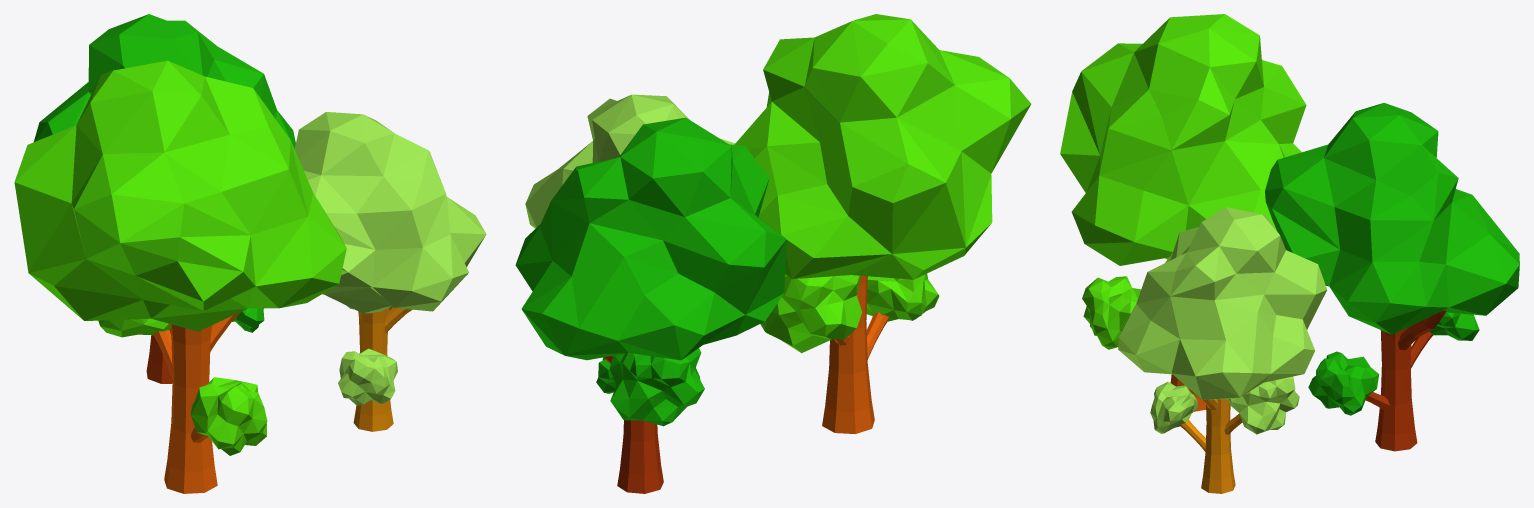
The model's file is Tree Group Revised.fbx.
3 views of the same model, side by side, from view 1: azimuth 30°, elevation 25°; view 2: azimuth 150°, elevation 25°; view 3: azimuth 270°, elevation 25° (orthographic). The views are drawn at different scales.
Visible parts, largest first — view 1: Cylinder.003; view 2: Cylinder.003; view 3: Cylinder.003.
Part boxes in pixels (box(x1,y1,x2,y2)): Cylinder.003: box(14, 14, 486, 493); Cylinder.003: box(515, 14, 1031, 493); Cylinder.003: box(1060, 14, 1519, 493).
Size of the model in its own units: 228 by 233 by 206.
